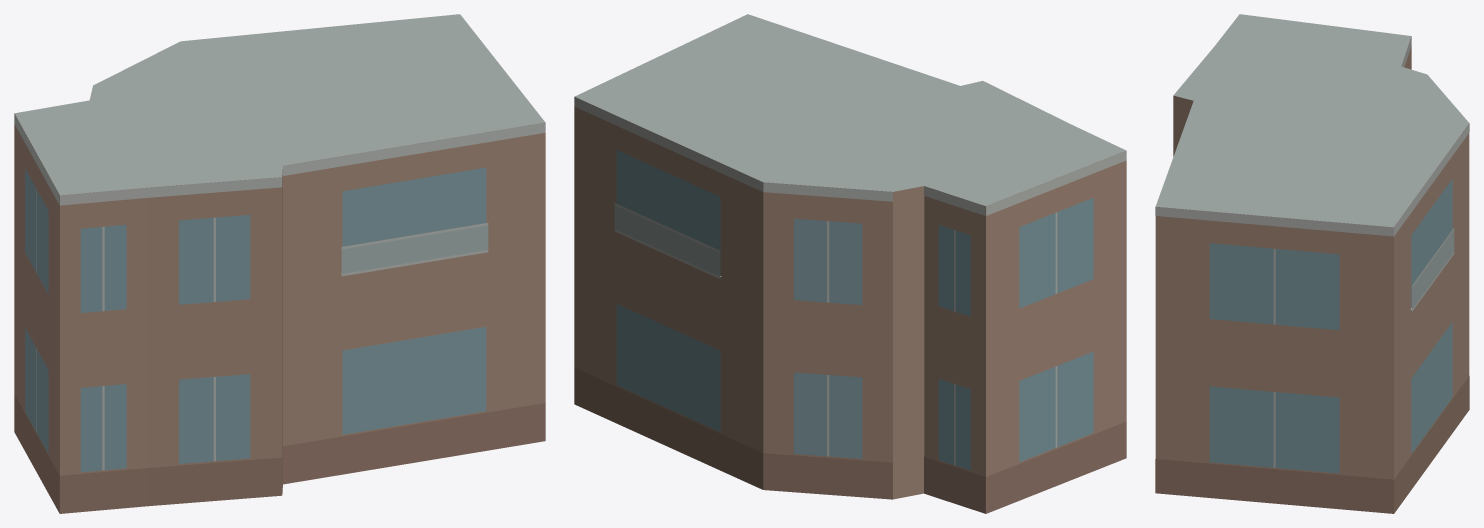
The model's file is survey-upis-32975496.glb.
The picture shows the model from 3 angles, left to right: view 1: azimuth 30°, elevation 25°; view 2: azimuth 150°, elevation 25°; view 3: azimuth 270°, elevation 25°; orthographic projection. The views are drawn at different scales.
Visible parts, largest first — view 1: survey-upis-32975496.tmp; view 2: survey-upis-32975496.tmp; view 3: survey-upis-32975496.tmp.
Part boxes in pixels (x1,y1,x2,y2): survey-upis-32975496.tmp: (14,14,545,513); survey-upis-32975496.tmp: (574,14,1126,513); survey-upis-32975496.tmp: (1155,14,1469,513).
Size of the model in its own units: 12.15 by 7.6 by 7.56.
